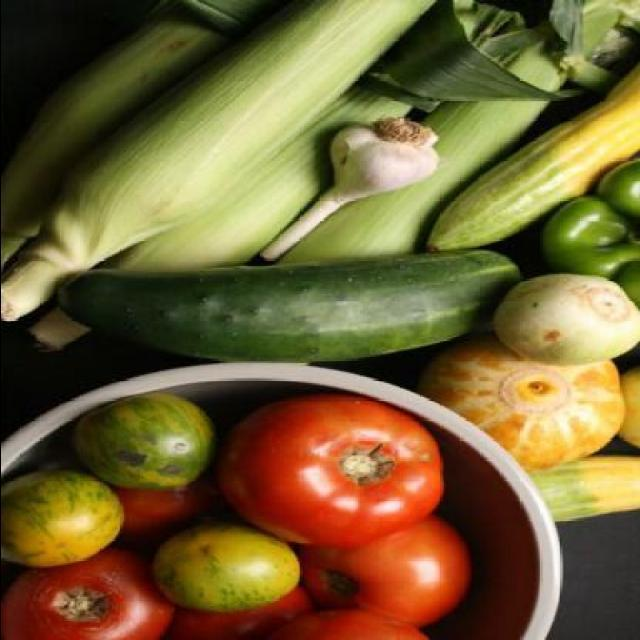Cucumber: (49, 252, 556, 364), (425, 52, 640, 258), (525, 459, 640, 523)
